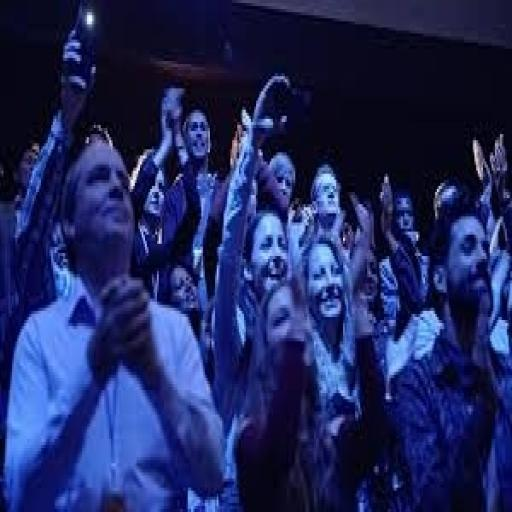clapping: (24, 116, 256, 512)
